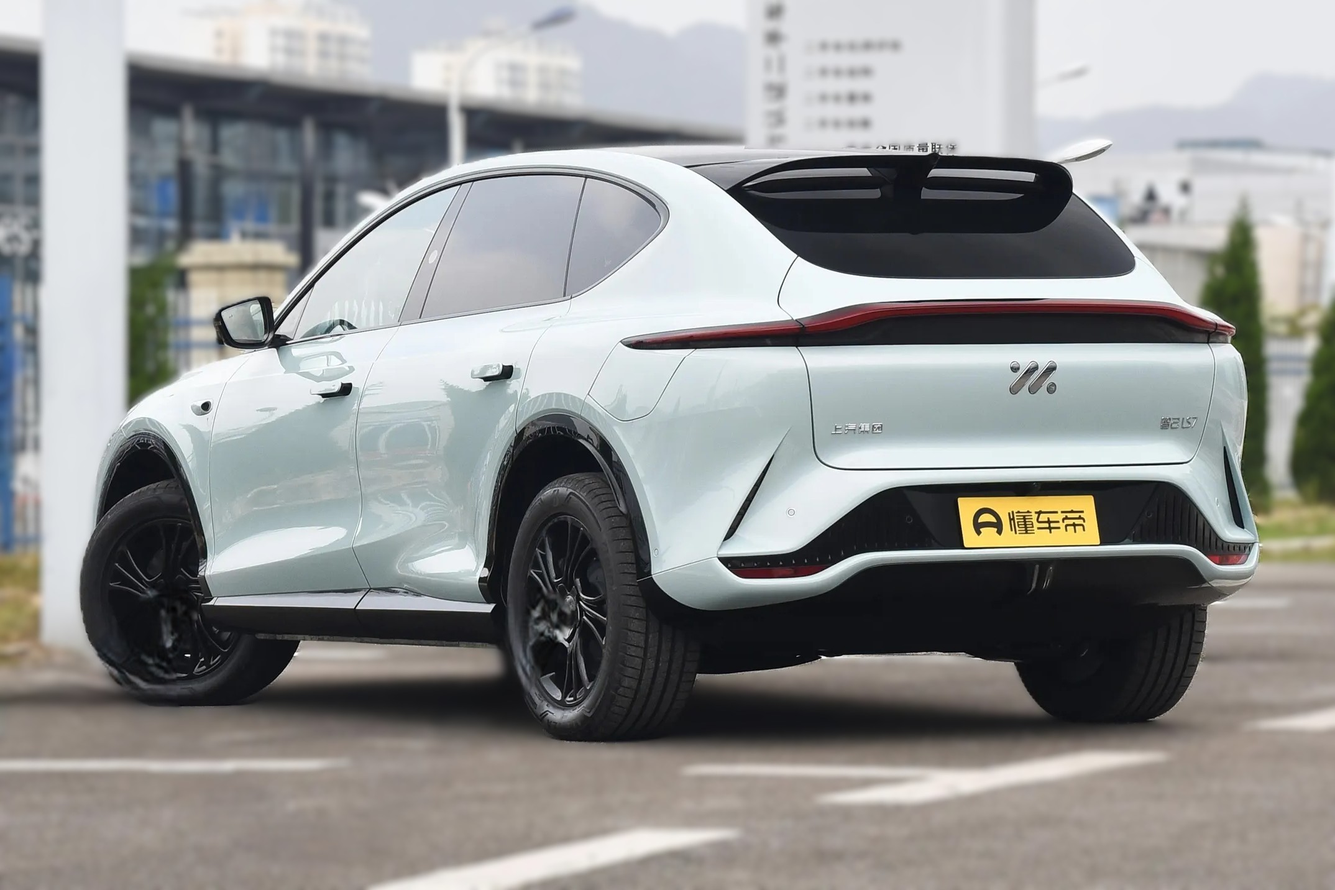IM: (1011, 361, 1057, 395)
